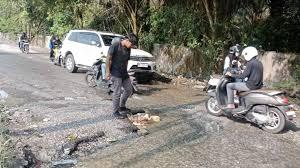Pothole: (44, 119, 115, 165), (113, 106, 169, 143), (12, 124, 53, 168)
